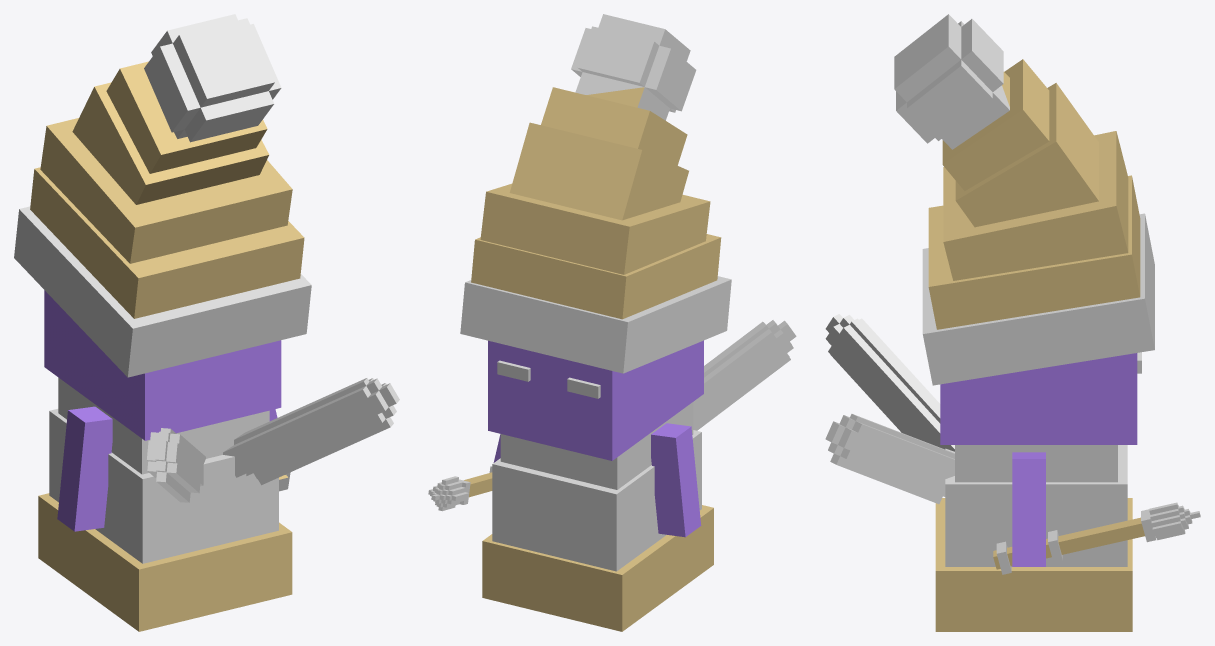
The model's file is FEE-PION.fbx.
The picture shows the model from 3 angles, left to right: view 1: azimuth 30°, elevation 25°; view 2: azimuth 150°, elevation 25°; view 3: azimuth 270°, elevation 25°; orthographic projection. The views are drawn at different scales.
Visible parts, largest first — view 1: fee; view 2: fee; view 3: fee.
Boxes of the visible parts, bbox=[...] form: fee: bbox=[14, 14, 399, 631]; fee: bbox=[428, 14, 796, 631]; fee: bbox=[825, 14, 1200, 631].
Bounding box in the file's own units: 584 × 1303 × 781.
